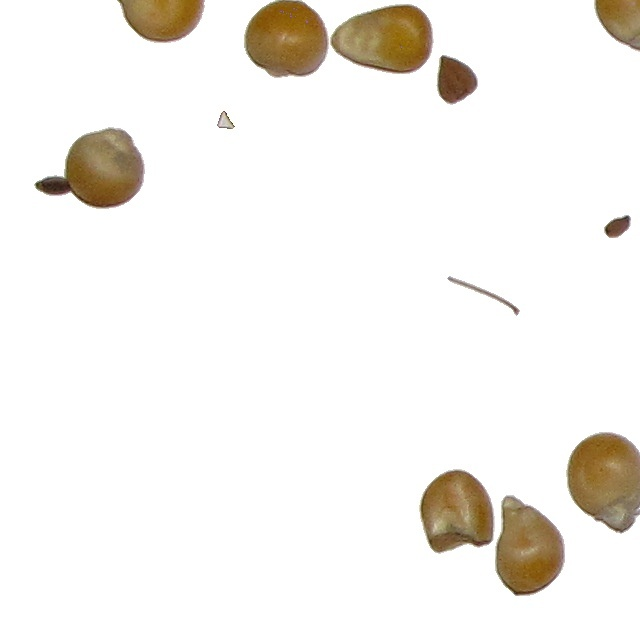buckwheat: (435, 54, 479, 106)
dill: (446, 275, 521, 317)
mais: (565, 431, 640, 535), (329, 3, 435, 75), (494, 494, 566, 597), (418, 468, 496, 555), (72, 126, 146, 209)
other: (603, 214, 632, 239), (216, 110, 236, 130)
